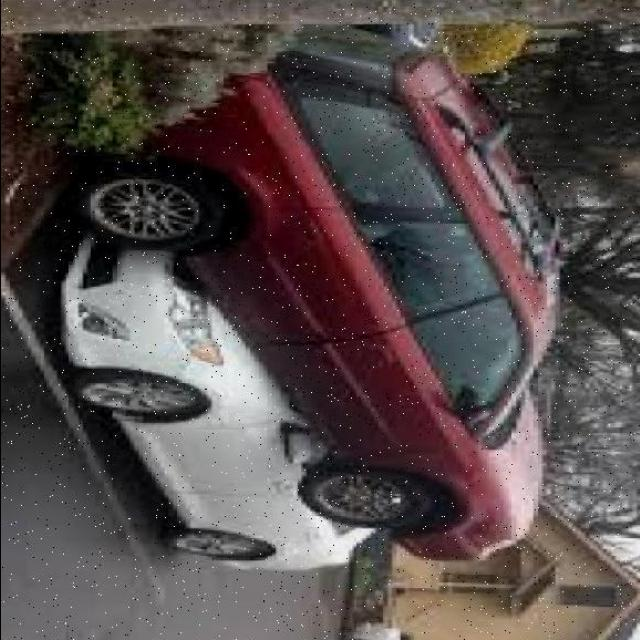accident: (120, 221, 532, 515)
